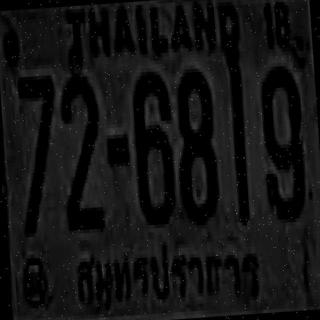N01: (225, 46, 250, 220), (224, 53, 250, 220)
N02: (56, 72, 104, 227)
N06: (130, 67, 176, 222)
N07: (14, 72, 62, 234)
N08: (172, 66, 218, 221)
N09: (257, 61, 307, 220)
P57: (68, 232, 266, 320)
